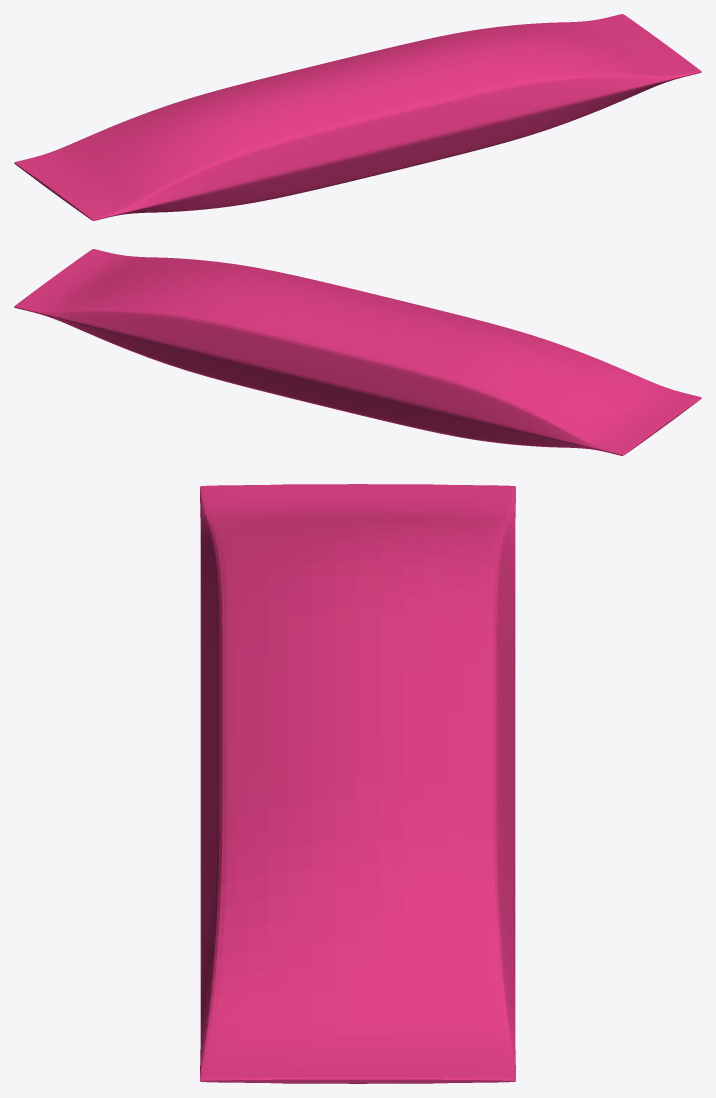
Rendered from sugar.glb.
3 views of the same model, one above another, from view 1: azimuth 30°, elevation 25°; view 2: azimuth 150°, elevation 25°; view 3: azimuth 270°, elevation 25° (orthographic). The views are drawn at different scales.
Parts seen in each view (by area): view 1: Cube; view 2: Cube; view 3: Cube.
Boxes of the visible parts, box(x1,y1,x2,y2) form: Cube: box(14, 14, 701, 220); Cube: box(14, 249, 701, 455); Cube: box(200, 484, 515, 1083).
Size of the model in its own units: 10.23 by 1.32 by 2.3.
